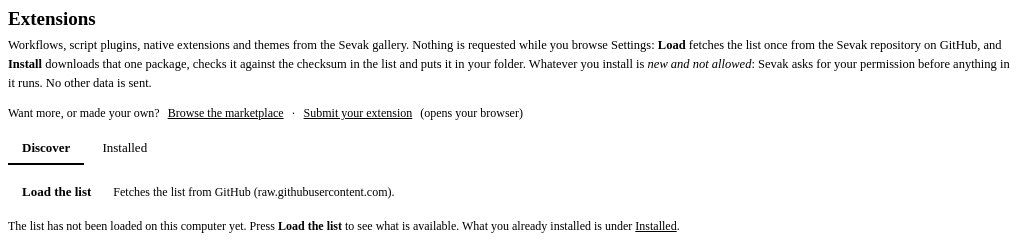
Test: what is installed › shows an empty state
The image size is (1024, 250).
Expected: the element showing "Discover Installed" is shown, 8,133 -> 161,165
Click the tab "Installed" at (125, 149), box 88,133 -> 161,165
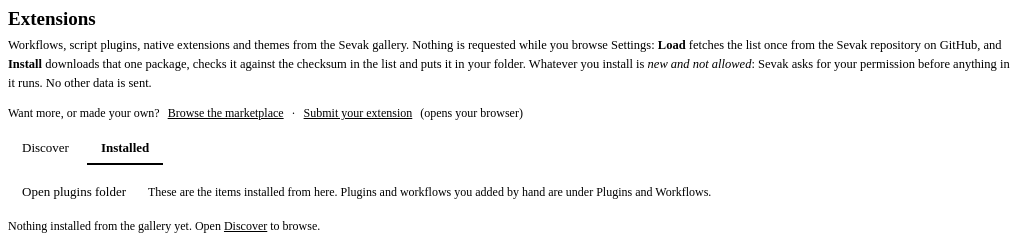
Expected: the text "Nothing installed from the gallery yet" is shown, 8,219 -> 224,233
